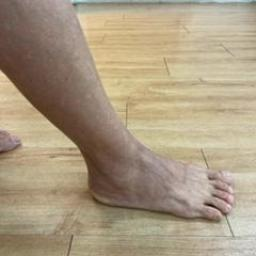Lateral View -Right Foot-: (66, 120, 251, 238)
